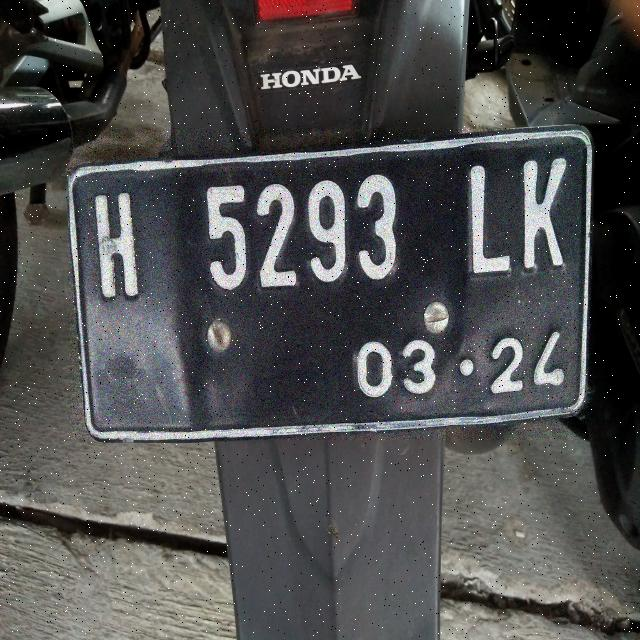plate: (69, 128, 591, 439)
